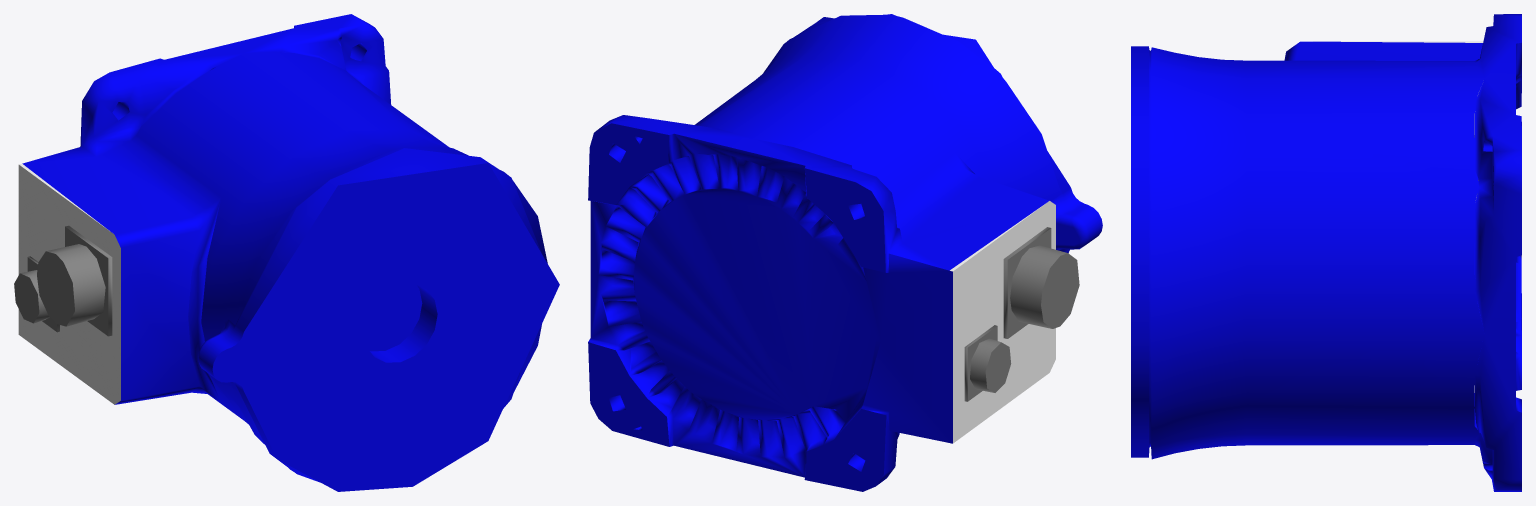
3 views of the same model, side by side, from view 1: azimuth 30°, elevation 25°; view 2: azimuth 150°, elevation 25°; view 3: azimuth 270°, elevation 25° (orthographic). The views are drawn at different scales.
Parts seen in each view (by area): view 1: base_link.dae (×6); view 2: base_link.dae (×6); view 3: base_link.dae (×3).
Boxes of the visible parts, x1=… form: base_link.dae (×6): x1=14, y1=14, x2=559, y2=491; base_link.dae (×6): x1=588, y1=14, x2=1102, y2=491; base_link.dae (×3): x1=1131, y1=14, x2=1521, y2=491.
Bounding box in the file's own units: 0.2731 × 0.2146 × 0.203.
